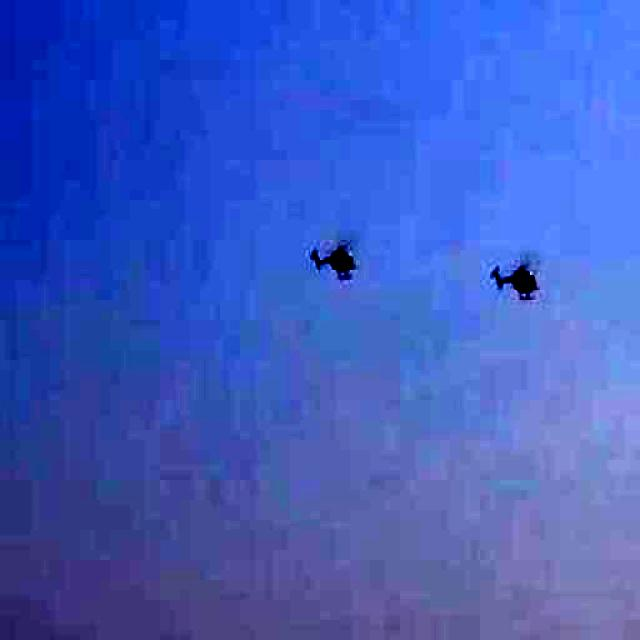drone: (469, 232, 551, 312), (300, 224, 366, 294)
